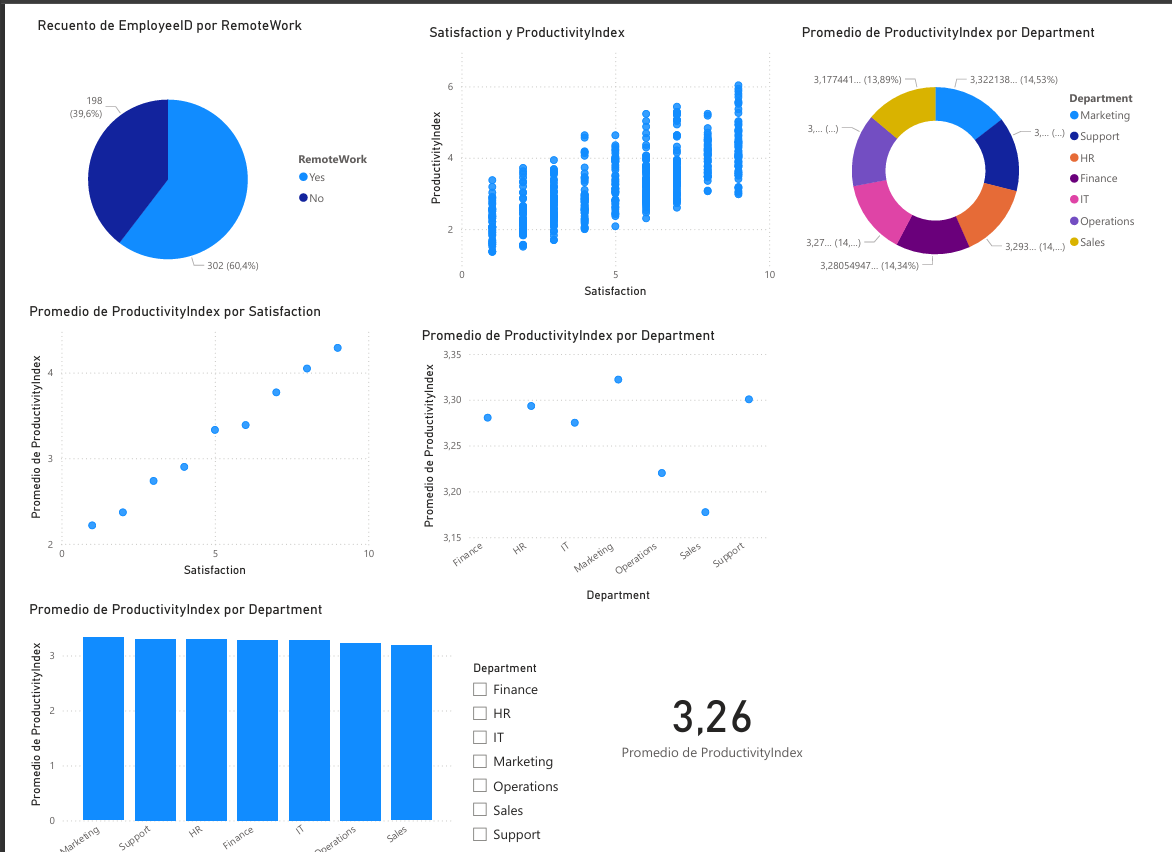

The page's visual inventory and layout, read from the dashboard file:
{"tool":"powerbi","page":{"name":"Página 1","canvas":[3500,2000],"ordinal":0},"visuals":[{"type":"pieChart","fields":{"Category":["employedcorregido.RemoteWork"],"Y":["CountNonNull(employedcorregido.EmployeeID)"]},"box":[10,2,422,372],"z":0},{"type":"scatterChart","fields":{"X":["employedcorregido.Satisfaction"],"Y":["employedcorregido.ProductivityIndex"]},"box":[480,10,425,334],"z":1000},{"type":"scatterChart","fields":{"X":["employedcorregido.Satisfaction"],"Y":["Avg(employedcorregido.ProductivityIndex)"]},"box":[0,345,424,334],"z":2000},{"type":"scatterChart","fields":{"Y":["Avg(employedcorregido.ProductivityIndex)"],"X":["employedcorregido.Department"]},"box":[471,374,424,335],"z":3000},{"type":"slicer","fields":{"Values":["employedcorregido.Department"]},"box":[525,771,158,278],"z":4000},{"type":"columnChart","fields":{"Category":["employedcorregido.Department"],"Y":["Avg(employedcorregido.ProductivityIndex)"]},"box":[0,703,519,346],"z":5000},{"type":"card","fields":{"Values":["Avg(employedcorregido.ProductivityIndex)"]},"box":[683,771,283,150],"z":6000},{"type":"donutChart","fields":{"Category":["employedcorregido.Department"],"Y":["Avg(employedcorregido.ProductivityIndex)"]},"box":[927,10,424,335],"z":7000}]}

Visuals, with their boxes in screenshot pixels (x1, y1, x2, y2):
pieChart - employedcorregido.RemoteWork x CountNonNull(employedcorregido.EmployeeID): bbox=(3, 1, 138, 119)
scatterChart - employedcorregido.Satisfaction x employedcorregido.ProductivityIndex: bbox=(153, 3, 288, 110)
scatterChart - employedcorregido.Satisfaction x Avg(employedcorregido.ProductivityIndex): bbox=(0, 110, 135, 216)
scatterChart - Avg(employedcorregido.ProductivityIndex) x employedcorregido.Department: bbox=(150, 119, 285, 226)
slicer - employedcorregido.Department: bbox=(167, 246, 218, 334)
columnChart - employedcorregido.Department x Avg(employedcorregido.ProductivityIndex): bbox=(0, 224, 165, 334)
card - Avg(employedcorregido.ProductivityIndex): bbox=(218, 246, 308, 293)
donutChart - employedcorregido.Department x Avg(employedcorregido.ProductivityIndex): bbox=(295, 3, 430, 110)
